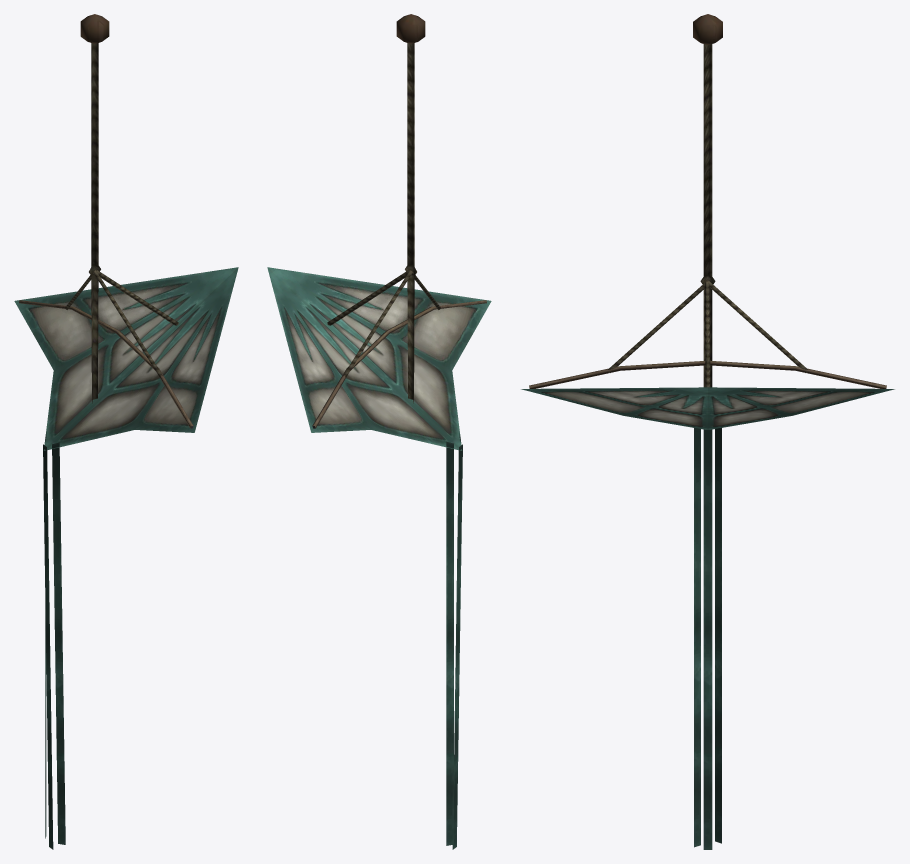
3 views of the same model, side by side, from view 1: azimuth 30°, elevation 25°; view 2: azimuth 150°, elevation 25°; view 3: azimuth 270°, elevation 25° (orthographic). The views are drawn at different scales.
Bounding box in the file's own units: 4.53 × 18.27 × 7.25.
Materials: 1 (1 with a texture image).
